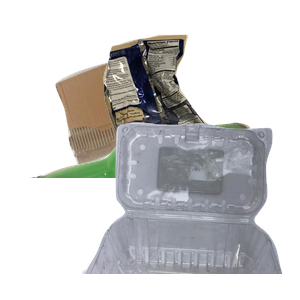cardboard: (53, 45, 221, 204)
glass: (23, 120, 263, 300)
plastic: (80, 120, 300, 300)
trash: (101, 32, 300, 195)
